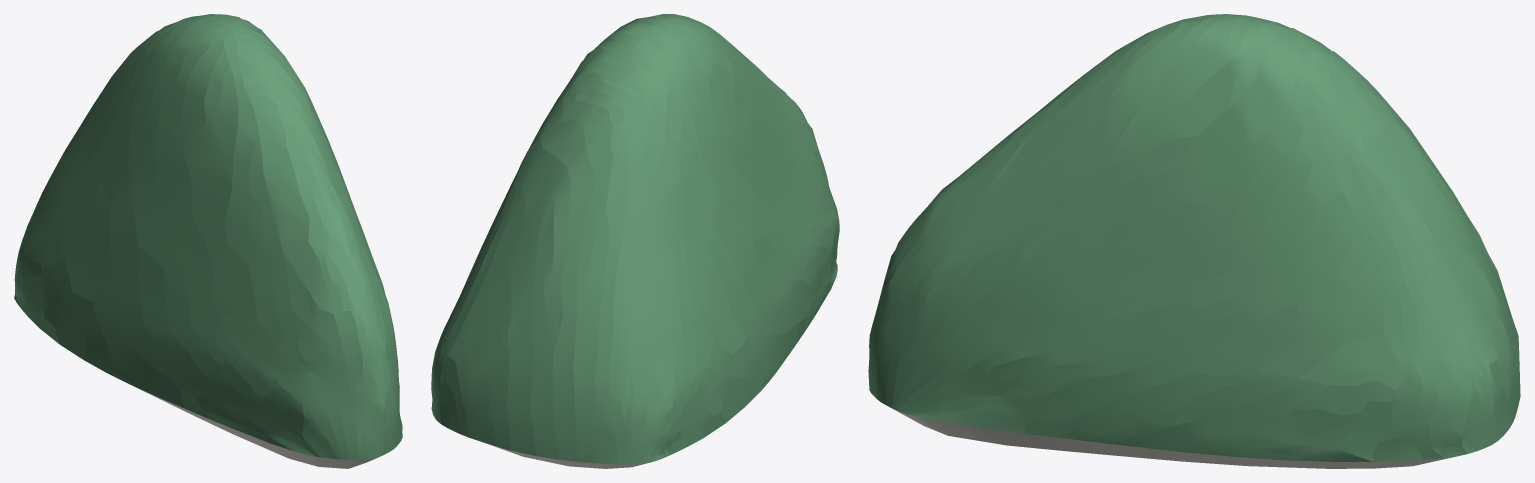
File: island_asian_E.fbx
3 renders of one model, left to right at view 1: azimuth 30°, elevation 25°; view 2: azimuth 150°, elevation 25°; view 3: azimuth 270°, elevation 25°, orthographic. The views are drawn at different scales.
Parts seen in each view (by area): view 1: island_asian_E; view 2: island_asian_E; view 3: island_asian_E.
Boxes of the visible parts, x1,y1,x2,y2 form: island_asian_E: [14, 14, 402, 468]; island_asian_E: [431, 14, 839, 468]; island_asian_E: [868, 14, 1520, 468].
Bounding box in the file's own units: 1600 × 2181 × 3223.
